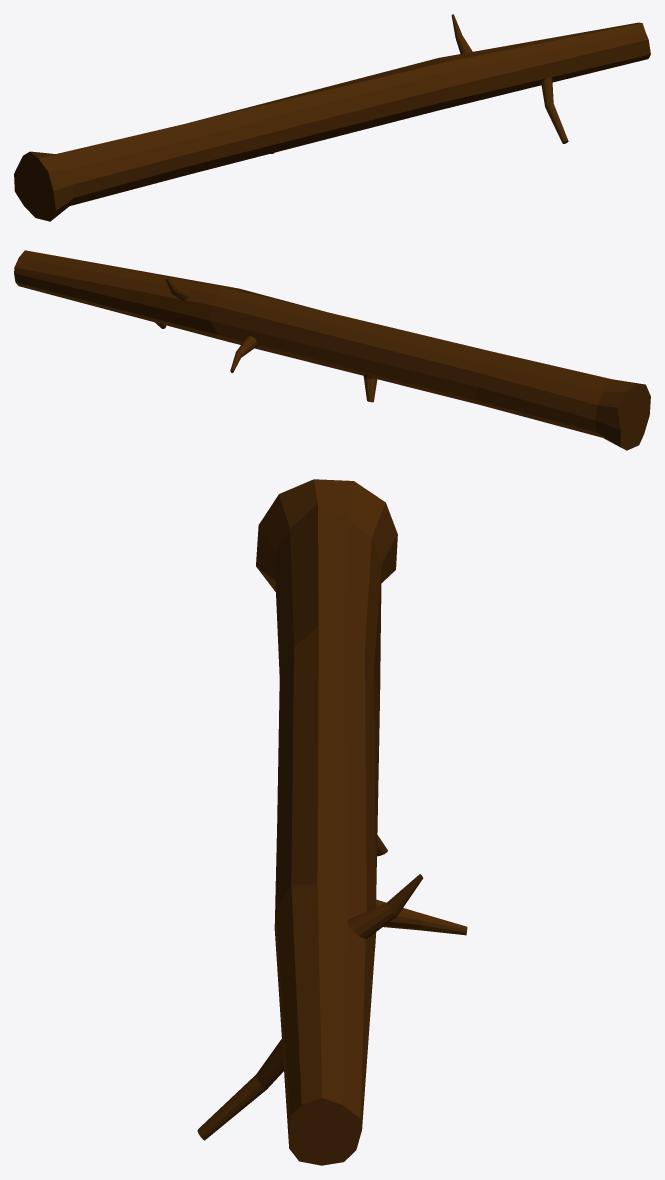
Rendered from fallen_log_variant3.fbx.
3 views of the same model, one above another, from view 1: azimuth 30°, elevation 25°; view 2: azimuth 150°, elevation 25°; view 3: azimuth 270°, elevation 25° (orthographic). The views are drawn at different scales.
Parts seen in each view (by area): view 1: Cylinder.001, Cylinder.003, Cylinder.006; view 2: Cylinder.001, Cylinder.005; view 3: Cylinder.001, Cylinder.003, Cylinder.006, Cylinder.005.
Boxes of the visible parts, x1=… form: Cylinder.001: x1=14, y1=22, x2=650, y2=221; Cylinder.003: x1=541, y1=77, x2=568, y2=143; Cylinder.006: x1=451, y1=14, x2=472, y2=53; Cylinder.001: x1=14, y1=250, x2=650, y2=450; Cylinder.005: x1=230, y1=336, x2=256, y2=372; Cylinder.001: x1=256, y1=479, x2=397, y2=1165; Cylinder.003: x1=197, y1=1039, x2=283, y2=1140; Cylinder.006: x1=347, y1=874, x2=423, y2=939; Cylinder.005: x1=376, y1=899, x2=467, y2=935.
Bounding box in the file's own units: 517 × 84.69 × 99.06.
